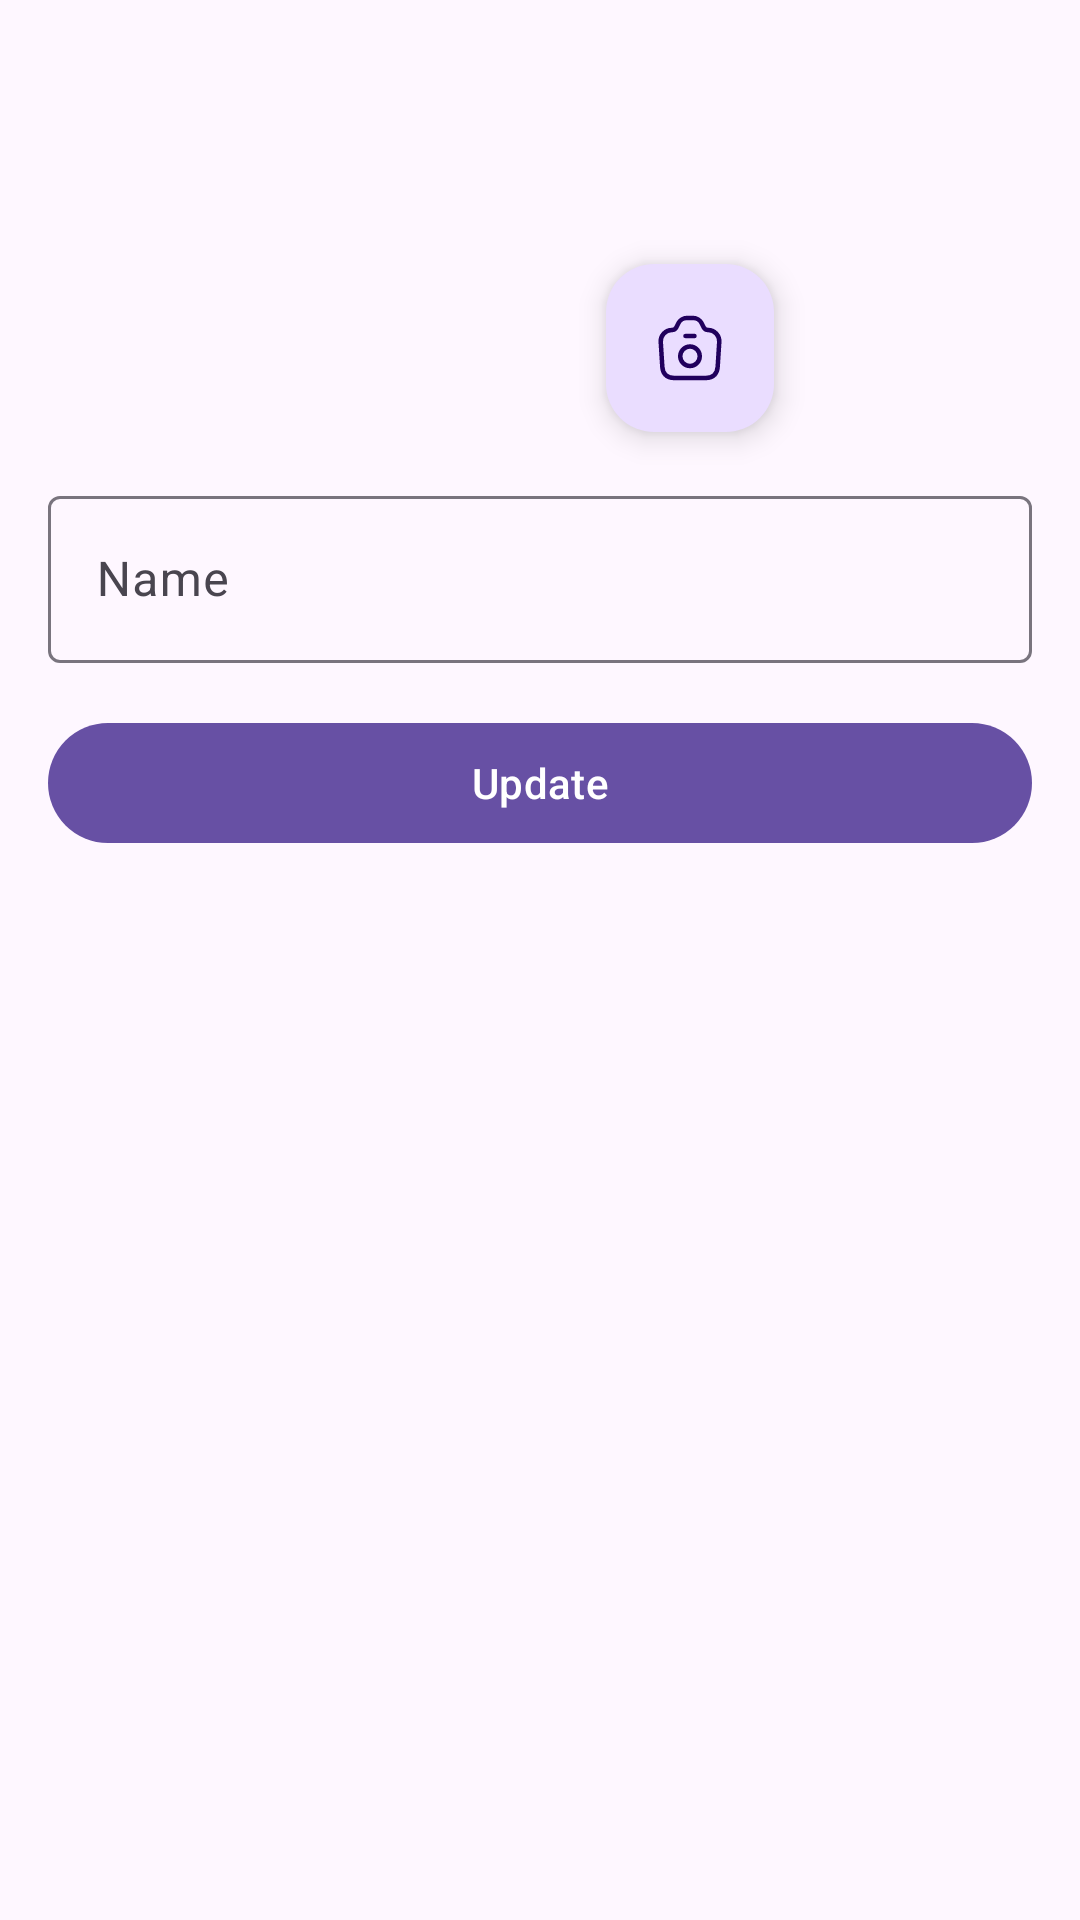

Where to tap for icons on this 1080w x 1920h app screen, as point (x, y):
camera: point (690, 348)
